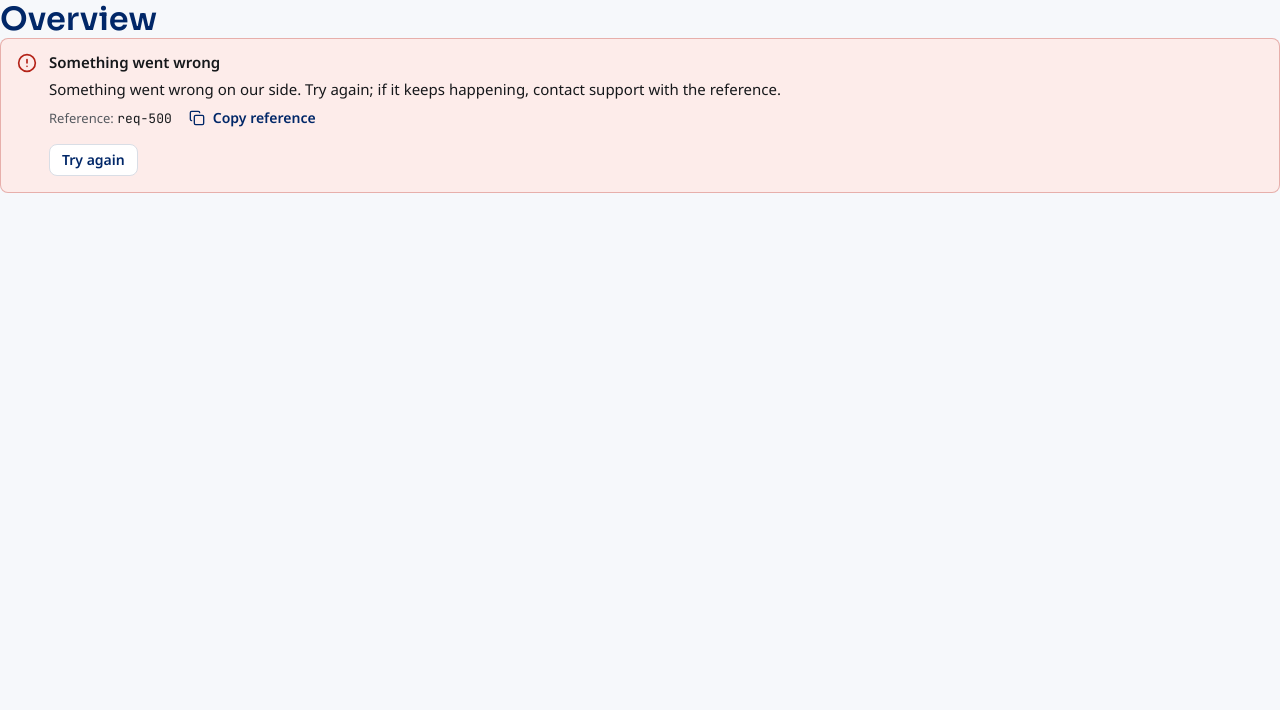
Test: OverviewScreen › shows a failed load with its reference, and loads again on Try again
Expected: the text "Something went wrong on our side. Try again; if it keeps happening, contact support with the reference." is shown, [49,79,781,99]
Expected: the text "req-500" is shown, [117,110,172,127]
Click the button "Try again".
click(93, 160)  # box [49,144,138,176]
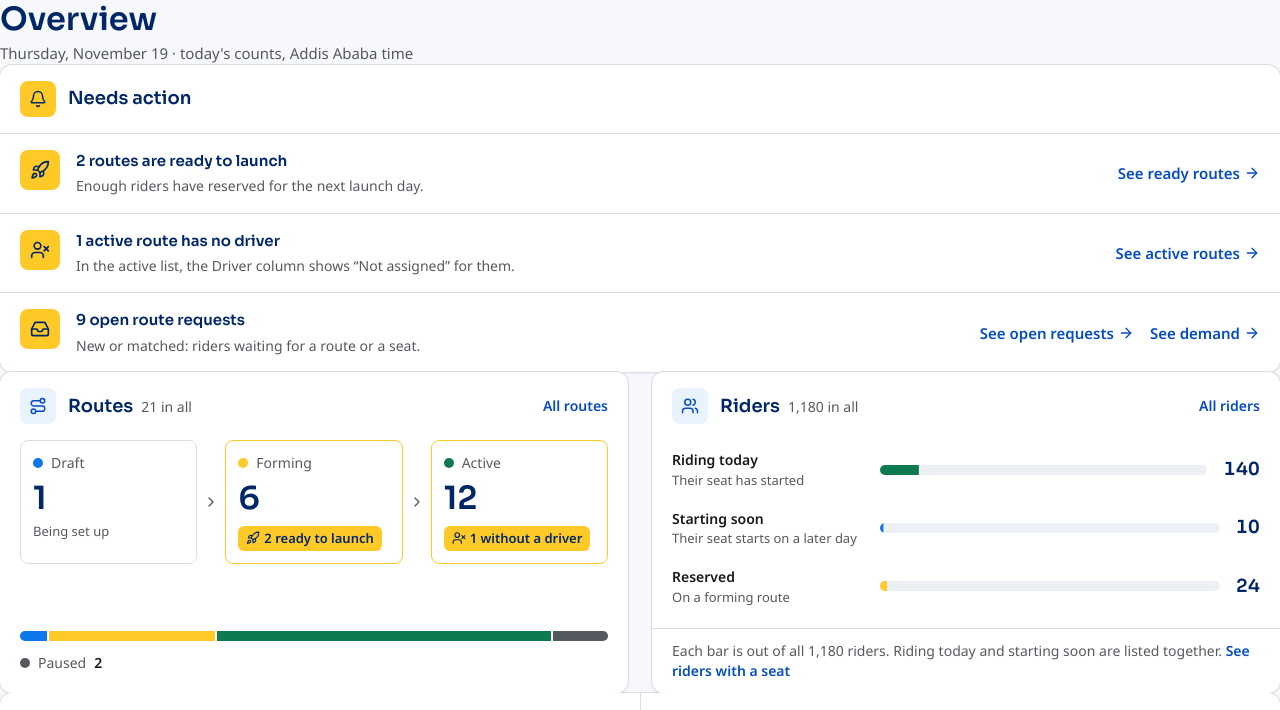
Result: the list named "Routes by stage" is shown at [20,440,608,564]
